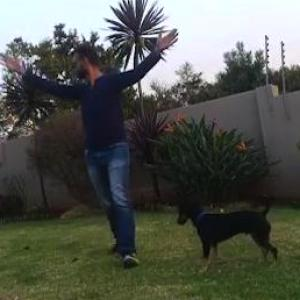takeoff: (7, 26, 180, 243)
